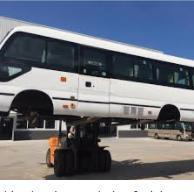bus: (0, 21, 194, 124)
